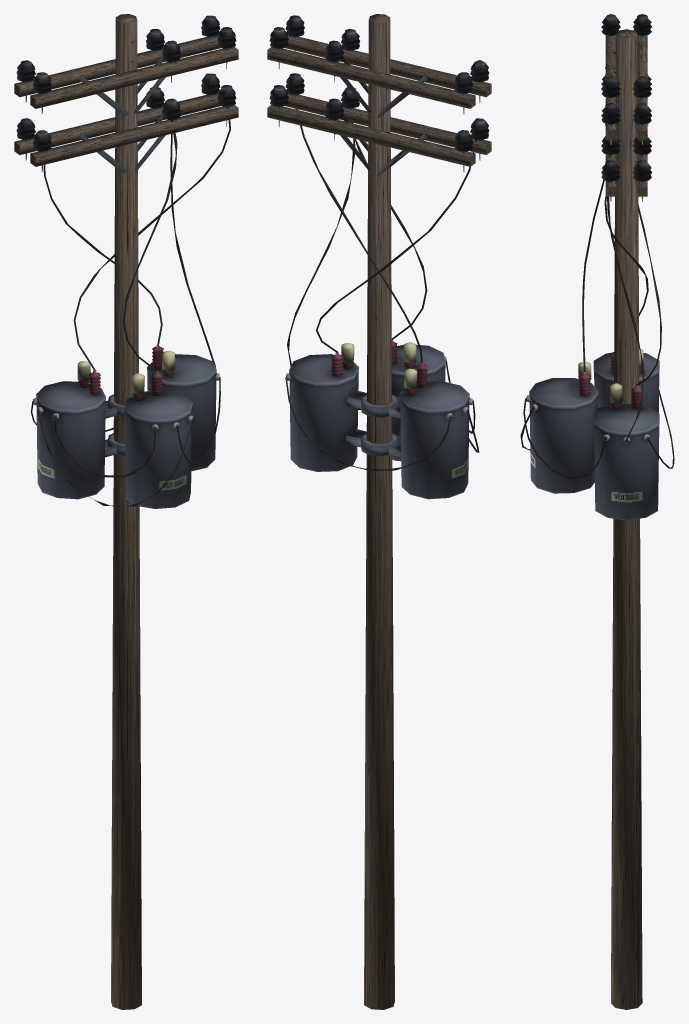
File: pole_wood_e_lod_1.glb
3 views of the same model, side by side, from view 1: azimuth 30°, elevation 25°; view 2: azimuth 150°, elevation 25°; view 3: azimuth 270°, elevation 25° (orthographic).
Parts seen in each view (by area): view 1: pole_wood_e_lod_1; view 2: pole_wood_e_lod_1; view 3: pole_wood_e_lod_1.
Boxes of the visible parts, x1,y1,x2,y2 form: pole_wood_e_lod_1: (14, 14, 238, 1009); pole_wood_e_lod_1: (267, 14, 491, 1009); pole_wood_e_lod_1: (520, 14, 674, 1009).
Bounding box in the file's own units: 2.2 × 10.2 × 1.47.
Materials: 2 (2 with a texture image).
